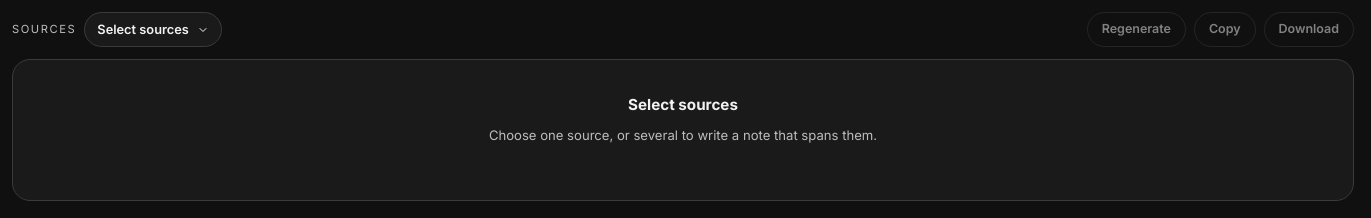
NotePanel source selection › lists every source when the picker is opened
This screenshot has width=1371, height=218.
Click the button "Select sources". click: (153, 30)
box: x1=84 y1=12 x2=222 y2=47
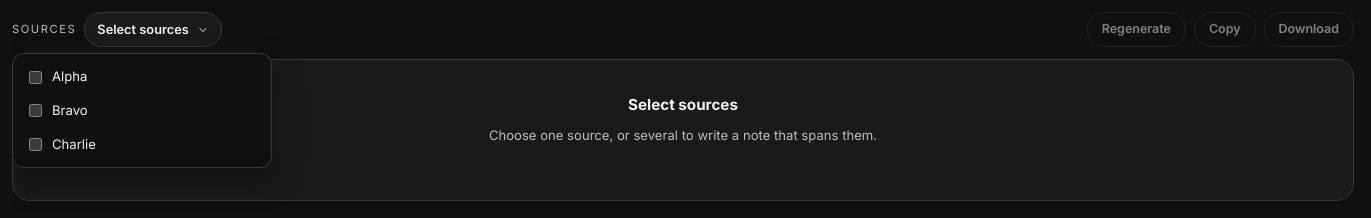
Check: the number of checkboxes is 3, box x1=29 y1=70 x2=42 y2=84; x1=29 y1=104 x2=42 y2=117; x1=29 y1=138 x2=42 y2=151
Check: the text "Alpha" is shown, box x1=52 y1=67 x2=87 y2=87
Check: the text "Charlie" is shown, box x1=52 y1=135 x2=96 y2=154
